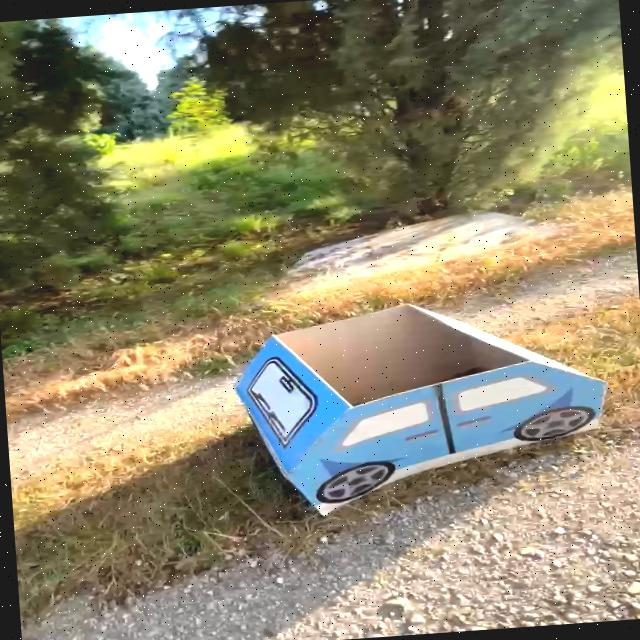blue_car: (170, 263, 640, 557)
